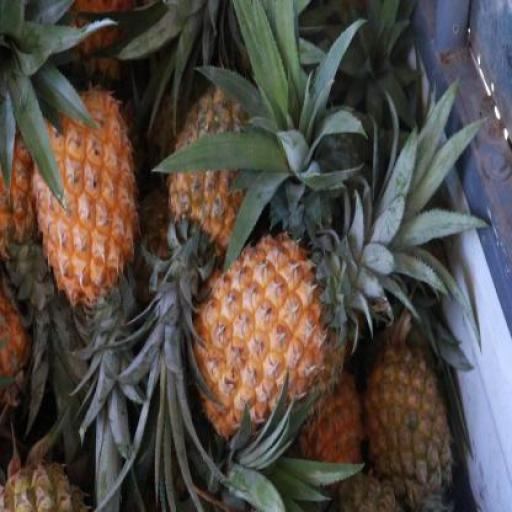------------------------------: (360, 333, 447, 506)
Pineapple - v8 v1: (189, 231, 338, 442), (26, 82, 138, 309)
